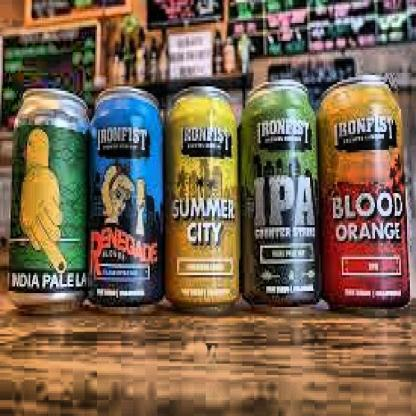Can: (317, 71, 413, 319), (240, 75, 324, 313), (7, 84, 90, 316), (87, 82, 165, 316), (162, 83, 240, 315)
